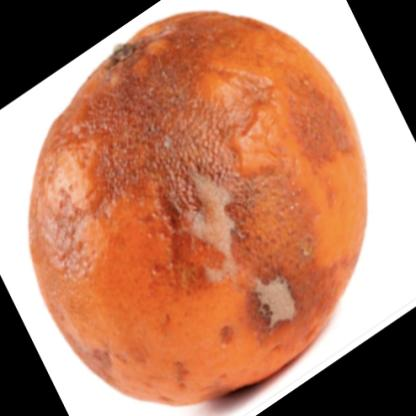rotten: (31, 13, 368, 406)
